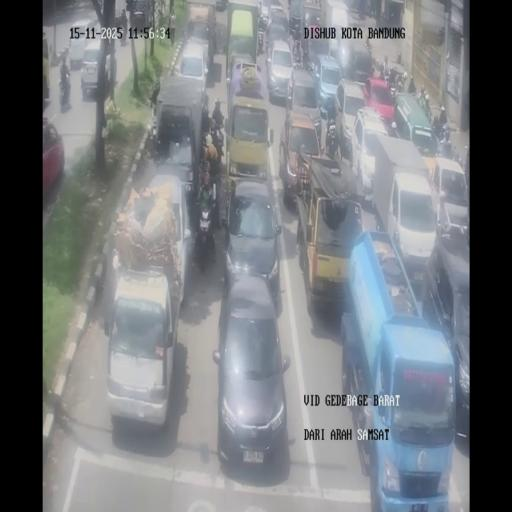3: (342, 236, 456, 508), (296, 155, 365, 318), (369, 137, 434, 253), (152, 77, 208, 210), (223, 94, 272, 202), (225, 0, 259, 77), (323, 0, 349, 49), (302, 0, 322, 36), (288, 0, 304, 37), (42, 32, 50, 101)
car: (213, 276, 290, 476), (104, 268, 180, 432), (222, 179, 283, 307), (429, 158, 469, 236), (334, 79, 369, 156), (286, 65, 322, 137), (174, 39, 210, 98), (266, 40, 295, 104), (80, 44, 113, 100), (42, 120, 64, 196), (362, 77, 396, 123), (128, 0, 149, 29), (258, 0, 278, 24), (215, 0, 228, 12)
truck: (193, 198, 216, 272), (319, 88, 338, 122), (435, 128, 454, 160), (210, 118, 225, 156), (325, 124, 339, 160), (450, 140, 466, 170), (58, 74, 71, 110), (200, 116, 212, 155), (417, 87, 430, 116), (300, 29, 310, 65), (55, 42, 70, 66), (150, 99, 158, 141), (386, 122, 400, 140), (395, 71, 406, 93), (257, 25, 265, 55), (120, 16, 128, 45), (202, 91, 210, 119), (364, 39, 373, 62), (388, 64, 397, 87), (381, 8, 393, 25), (408, 76, 417, 94), (378, 63, 386, 80), (365, 2, 373, 18)
